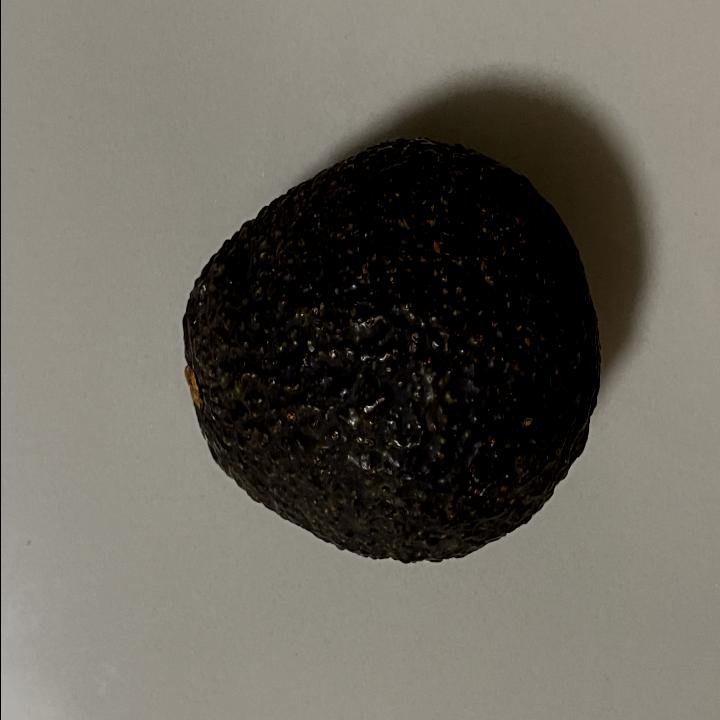Level2: (178, 128, 606, 570)
